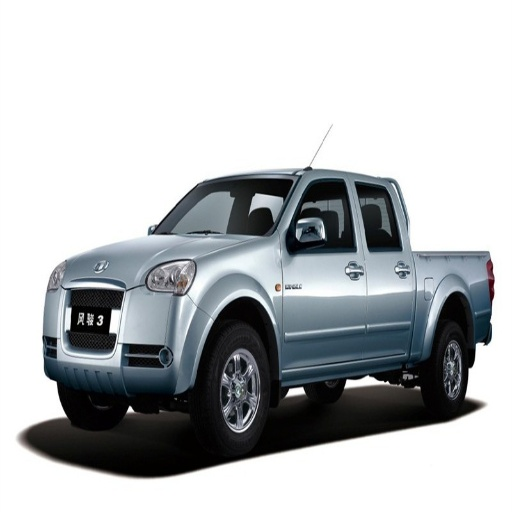back_left_door: (350, 179, 408, 351)
front_bumper: (43, 277, 210, 396)
front_glass: (150, 179, 293, 235)
front_left_door: (285, 177, 366, 365)
trunk: (411, 252, 489, 355)
